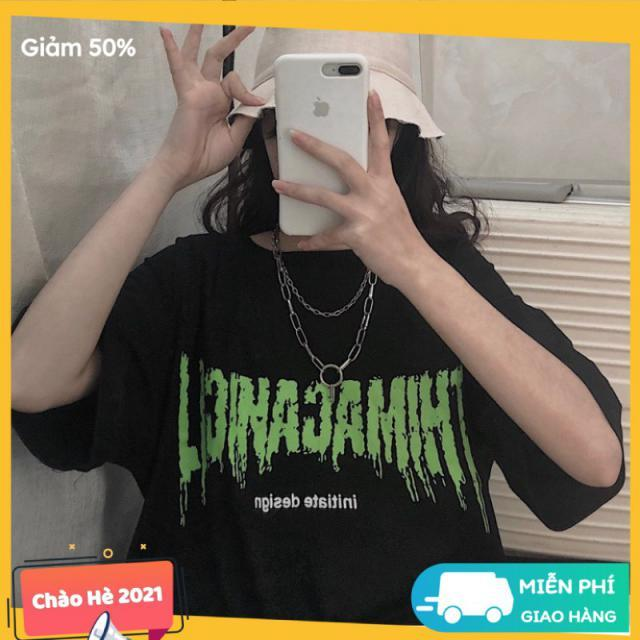Shirt: (12, 208, 628, 623)
